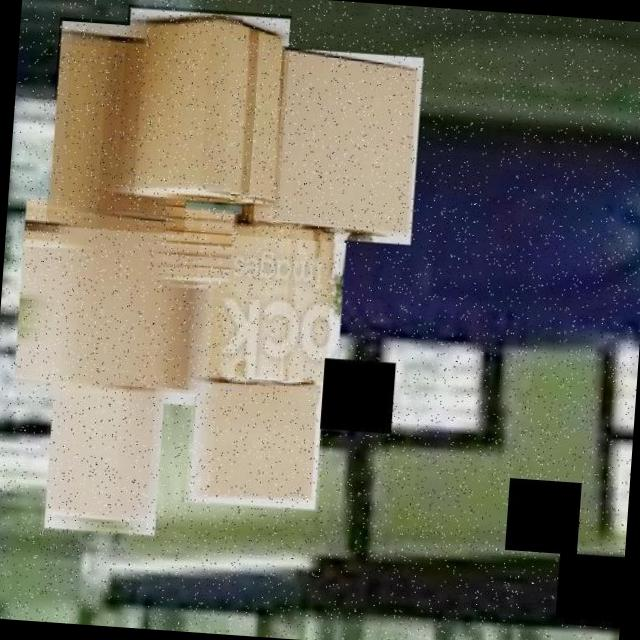box: (9, 194, 210, 408), (236, 41, 426, 248), (115, 3, 292, 208), (45, 17, 198, 235), (186, 208, 348, 406), (38, 363, 165, 538), (184, 374, 327, 512)
